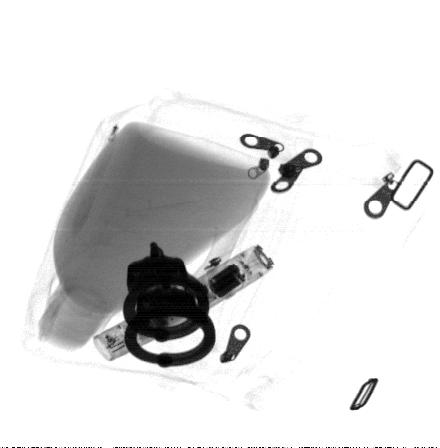Baton: (93, 244, 275, 362)
HandCuffs: (122, 239, 217, 370)
